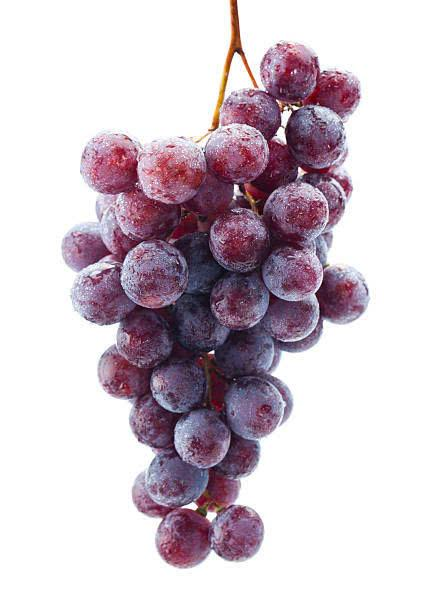grape: (67, 93, 354, 558)
